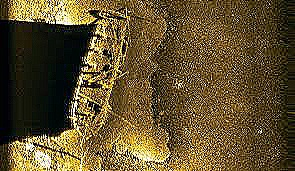ship: (67, 7, 136, 144)
